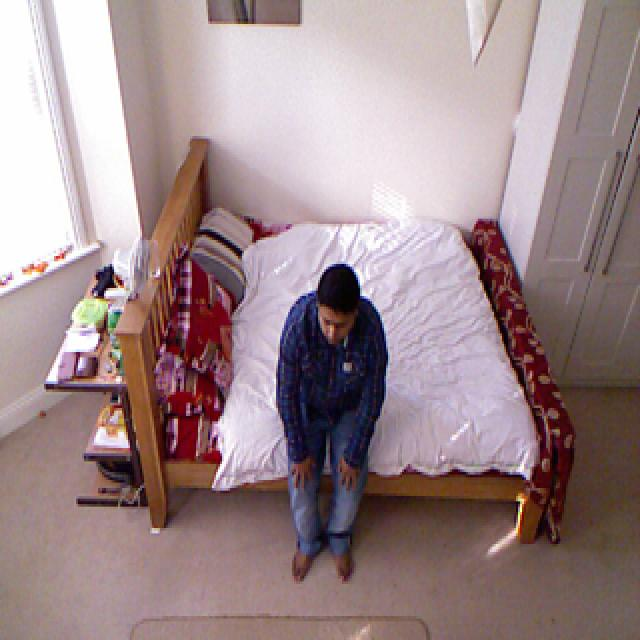sitting: (272, 255, 391, 597)
